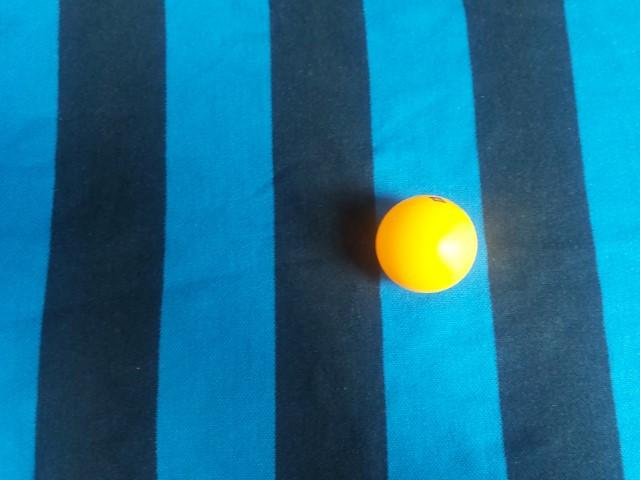oball: (156, 179, 273, 294)
